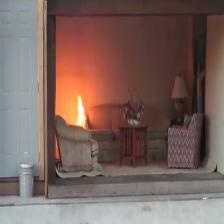fire: (66, 91, 93, 131)
